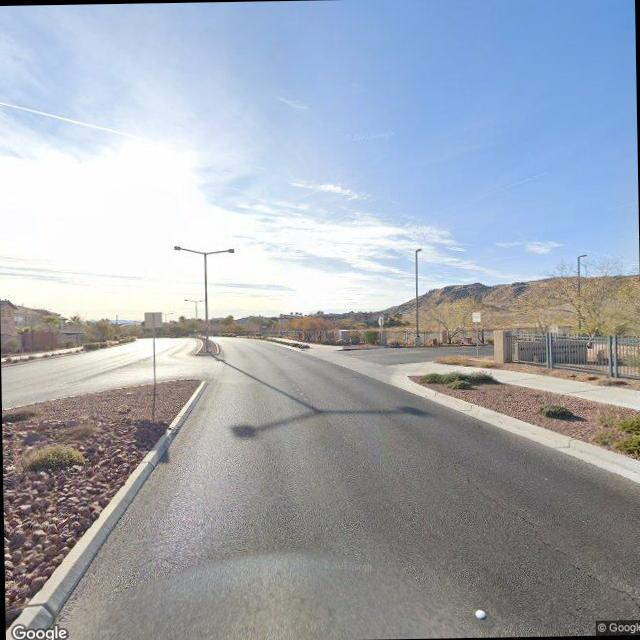pothole: (453, 470, 640, 619)
